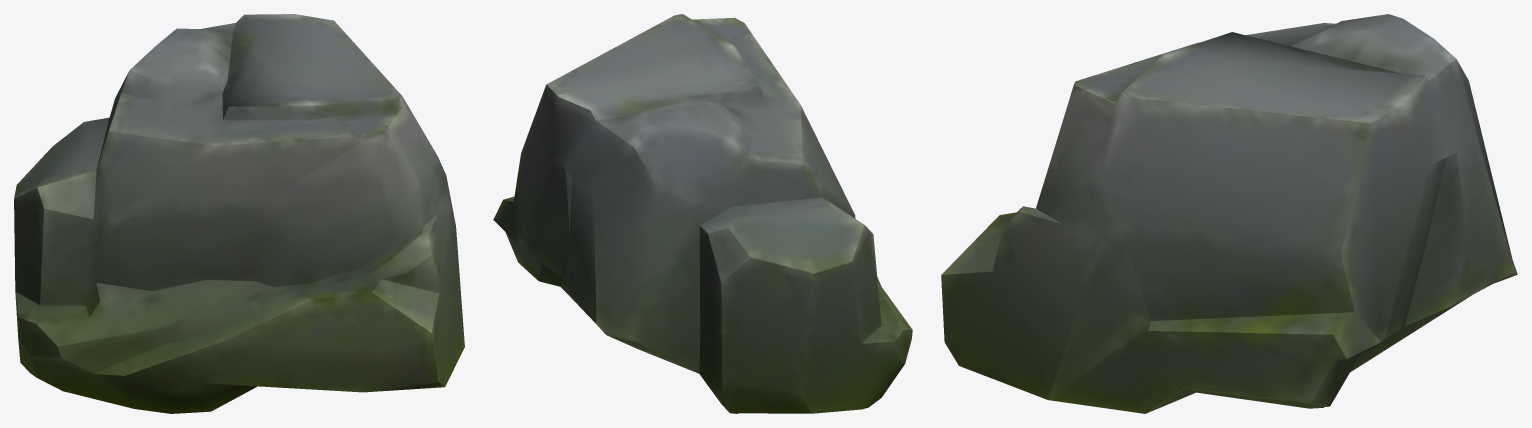
File: n_rock_medium_3.glb
3 views of the same model, side by side, from view 1: azimuth 30°, elevation 25°; view 2: azimuth 150°, elevation 25°; view 3: azimuth 270°, elevation 25° (orthographic). The views are drawn at different scales.
Parts seen in each view (by area): view 1: Rock_Medium_3; view 2: Rock_Medium_3; view 3: Rock_Medium_3.
Boxes of the visible parts, left/top/right/bottom form: Rock_Medium_3: left=14, top=14, right=464, bottom=413; Rock_Medium_3: left=493, top=14, right=912, bottom=413; Rock_Medium_3: left=941, top=14, right=1517, bottom=413.
Bounding box in the file's own units: 3.42 × 2.32 × 3.48.
Materials: 1 (1 with a texture image).
